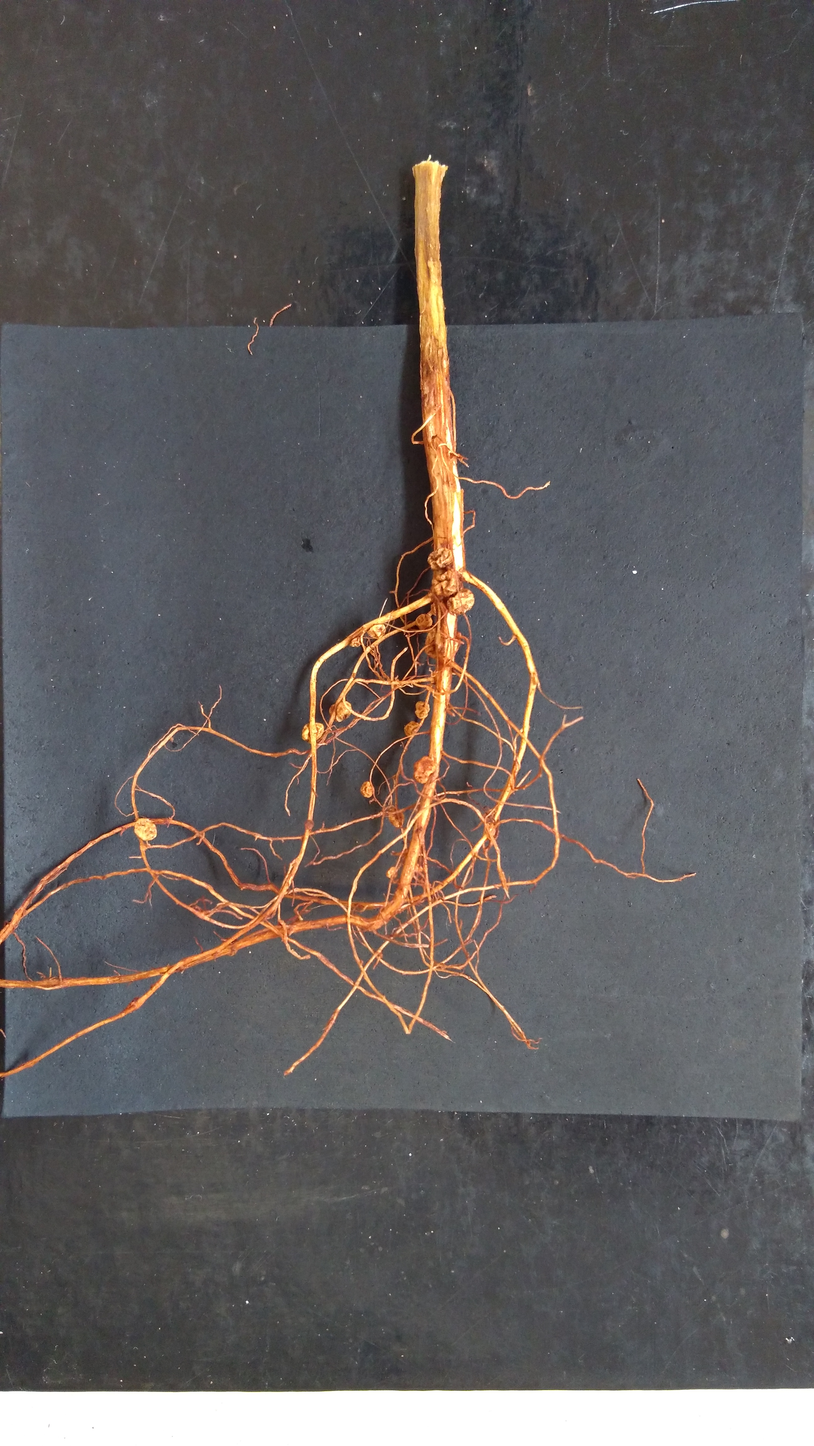nodule: (442, 585, 477, 617), (432, 570, 465, 597), (409, 755, 437, 786), (424, 547, 457, 570), (131, 817, 159, 841), (300, 719, 325, 745), (328, 700, 354, 724), (386, 808, 407, 830), (424, 625, 438, 658), (415, 611, 435, 632), (366, 623, 389, 641), (414, 700, 431, 721), (358, 780, 376, 799), (403, 720, 420, 737), (349, 634, 364, 652), (483, 822, 497, 839), (385, 865, 399, 881), (414, 862, 423, 874)
